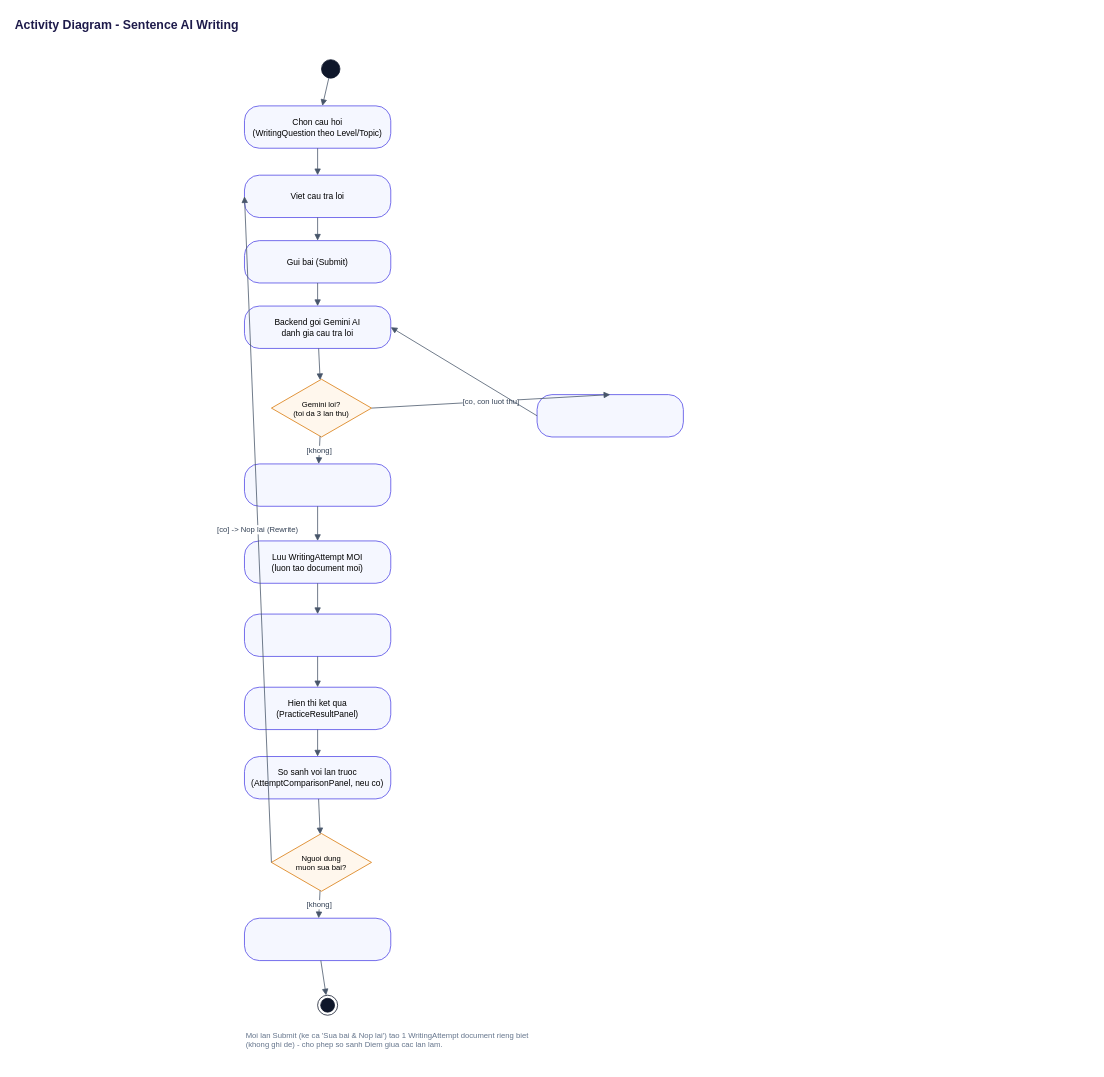
Some shapes in this 1104 by 1077 pixel diagram are drawn without their labels. The centre of each missing label's shape, as x and y in pixels:
Dung Heuristic Provider (danh gia du phong): (x=609, y=415)
Luu WritingError[] + cap nhat thong ke User: (x=317, y=634)
Nhan ket qua: diem, errors[], feedback, correctedSuggestion: (x=317, y=484)
Xem goi y Grammar lien quan (link ve chu de ngu phap): (x=317, y=939)
